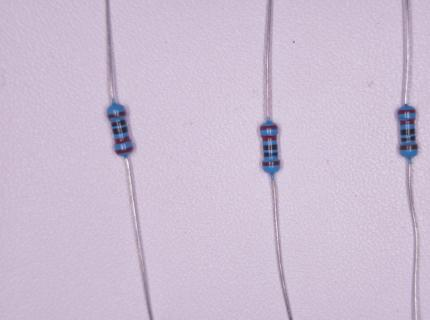Black band: (113, 127, 128, 134), (111, 120, 126, 126), (400, 129, 415, 135), (263, 145, 278, 150), (264, 152, 278, 157), (401, 137, 415, 142)
Brown band: (108, 111, 126, 119), (400, 145, 418, 150), (263, 161, 280, 166)
Red band: (114, 136, 131, 145), (115, 147, 133, 154), (260, 125, 278, 131), (397, 109, 417, 114), (261, 135, 277, 141), (400, 119, 416, 125)
